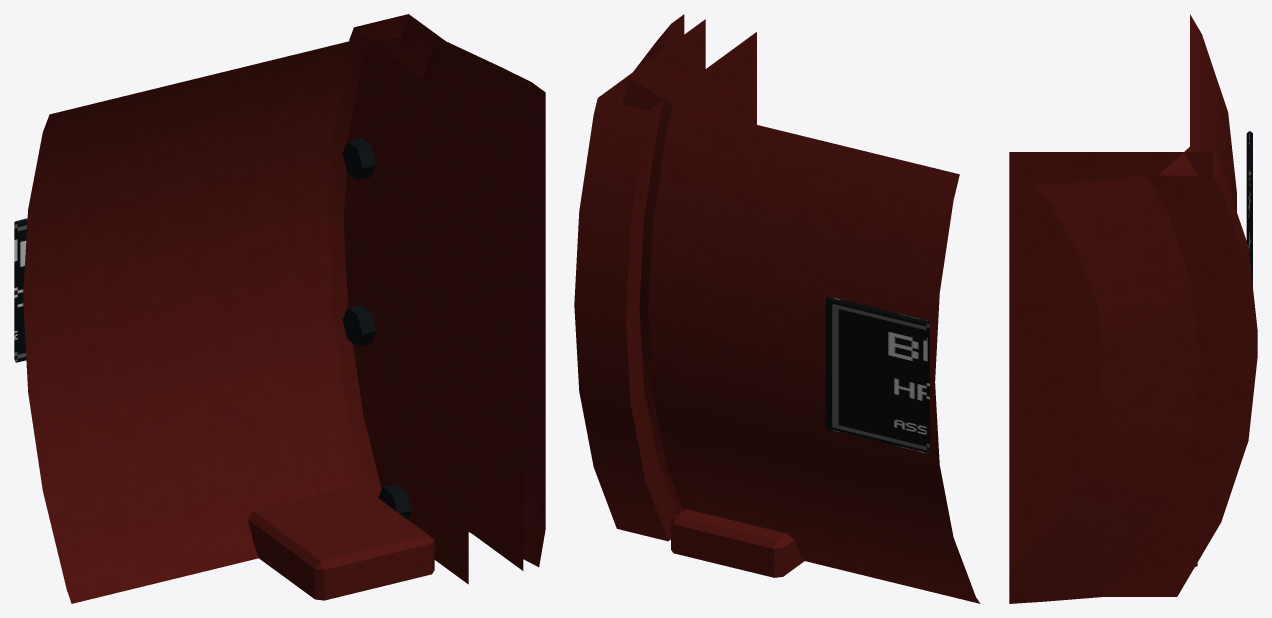
The model's file is cell_26.obj.
3 views of the same model, side by side, from view 1: azimuth 30°, elevation 25°; view 2: azimuth 150°, elevation 25°; view 3: azimuth 270°, elevation 25° (orthographic). The views are drawn at different scales.
Visible parts, largest first — view 1: cell_26; view 2: cell_26; view 3: cell_26.
Part boxes in pixels (bbox=[...]): cell_26: bbox=[14, 14, 545, 603]; cell_26: bbox=[574, 14, 980, 603]; cell_26: bbox=[1009, 14, 1257, 603].
Size of the model in its own units: 0.8725 by 1 by 0.5346.
